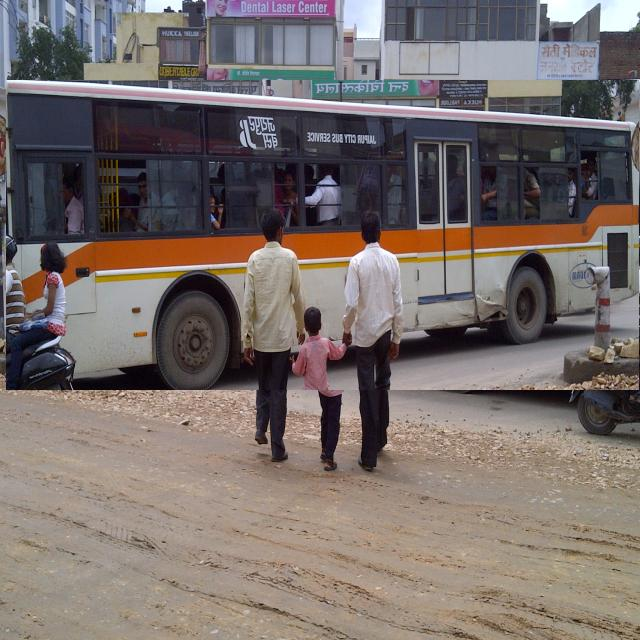bus: (6, 81, 640, 390)
